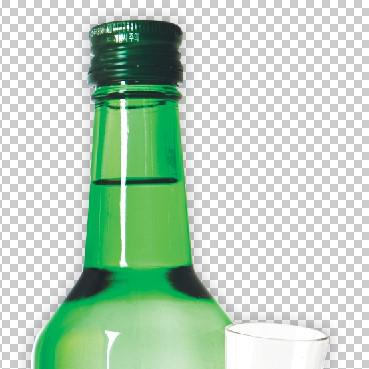soju: (31, 17, 244, 369)
